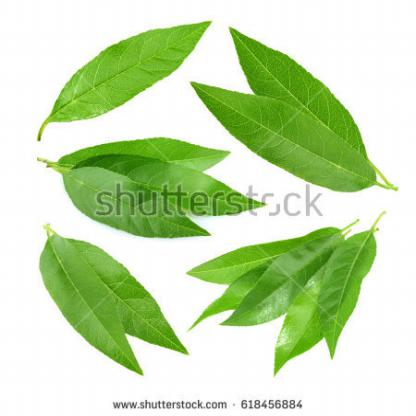peach leaf: (33, 16, 213, 135), (190, 77, 375, 189), (229, 25, 361, 148), (37, 230, 142, 379), (226, 231, 348, 335), (87, 242, 190, 354), (55, 171, 207, 238), (324, 210, 388, 354), (132, 160, 265, 216), (178, 240, 296, 293), (275, 277, 325, 374)
